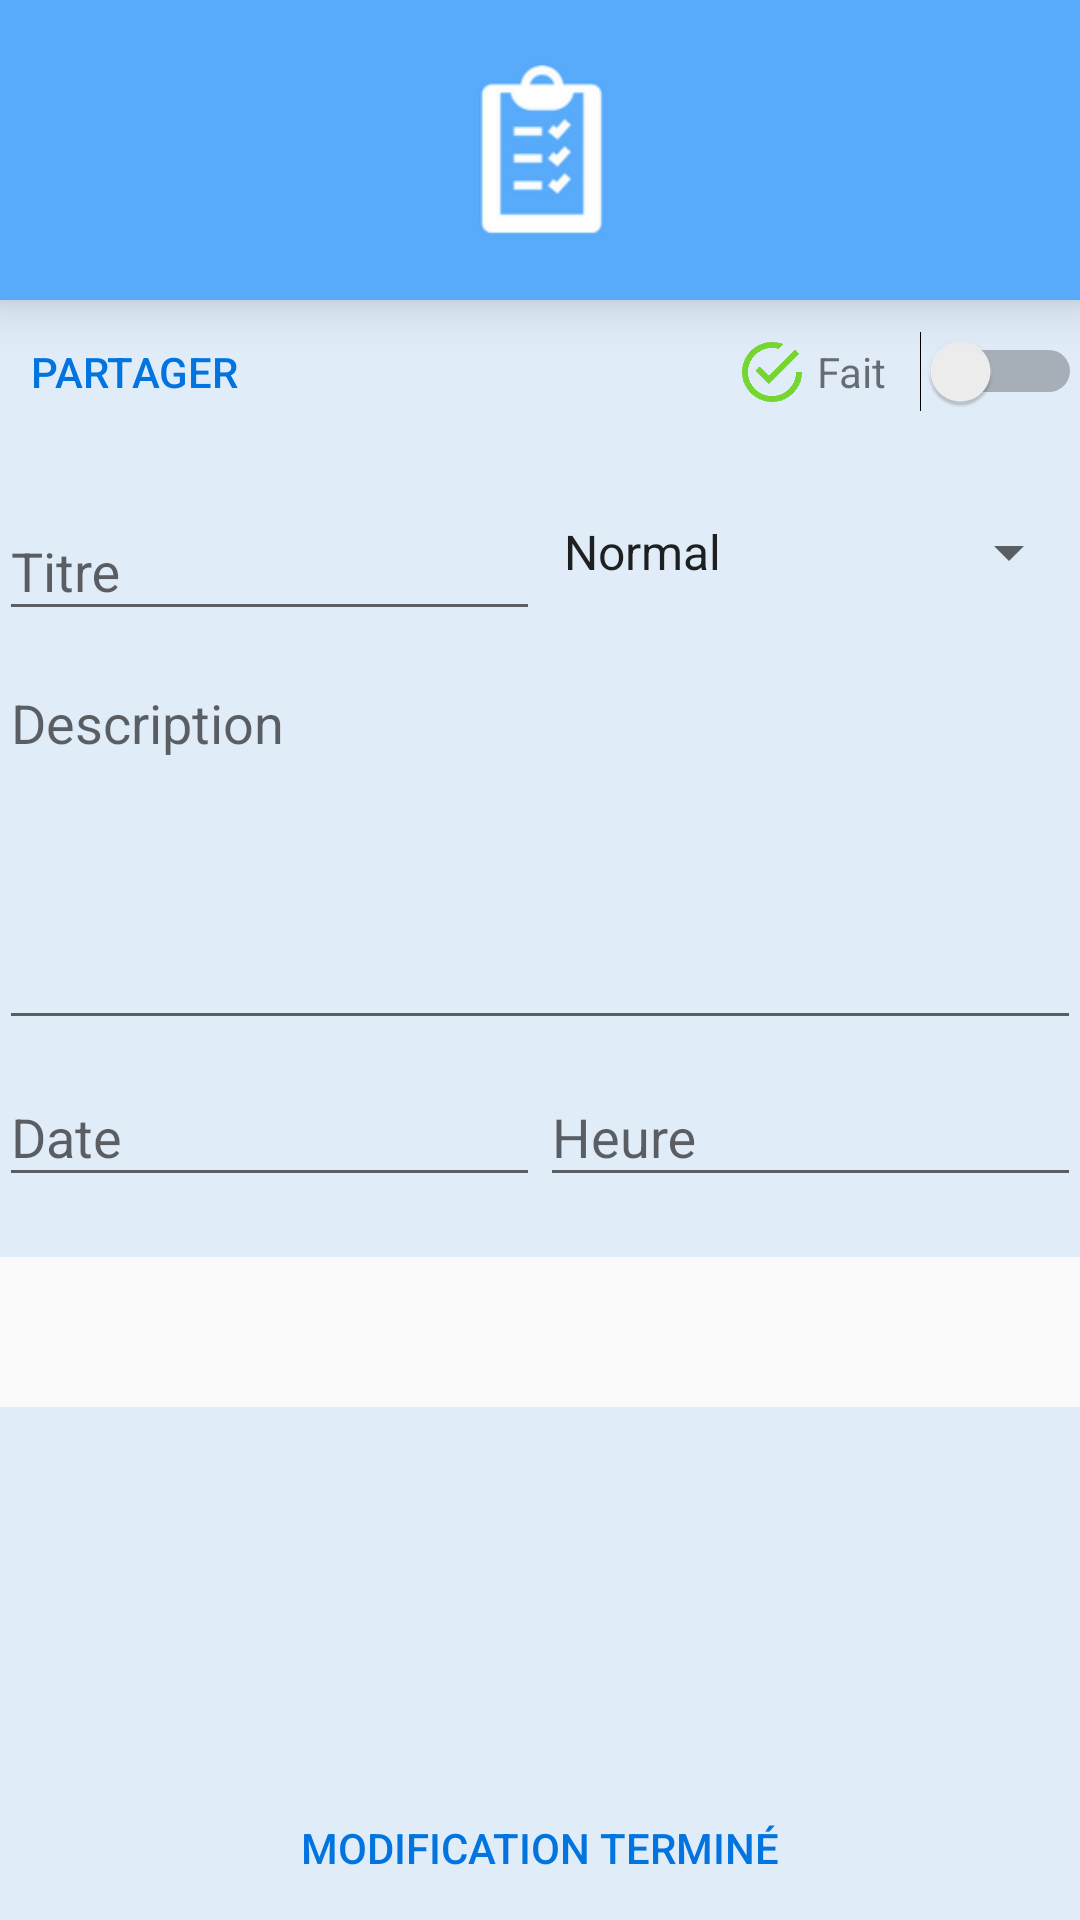

Icon bounding boxes for this 1080*1920 phone screenshot, format [x1=x1, y1=y1, x2=x2, y2=y2]:
checked done: [x1=742, y1=342, x2=802, y2=402]
